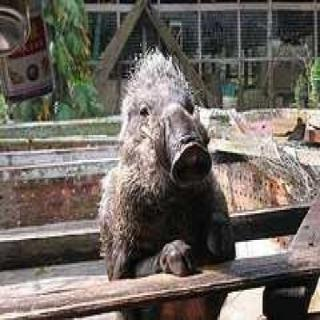Pig: (88, 54, 232, 320)
